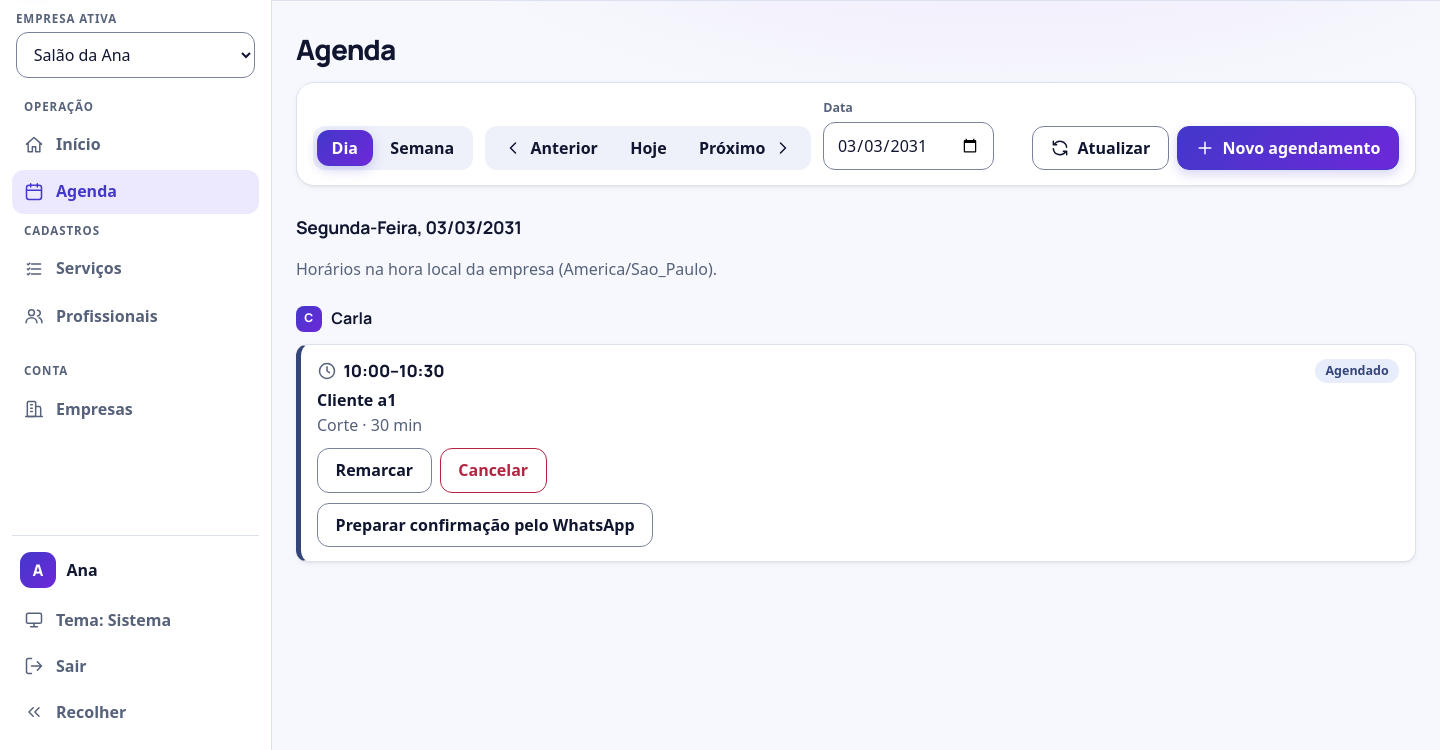
Scenario: WhatsApp na agenda real › prepara uma única ação por cartão na visão Dia, com a empresa ativa
This screenshot has width=1440, height=750.
Click the button "Preparar confirmação pelo WhatsApp". click: (485, 525)
box: [317, 503, 653, 547]
(page scrolled)
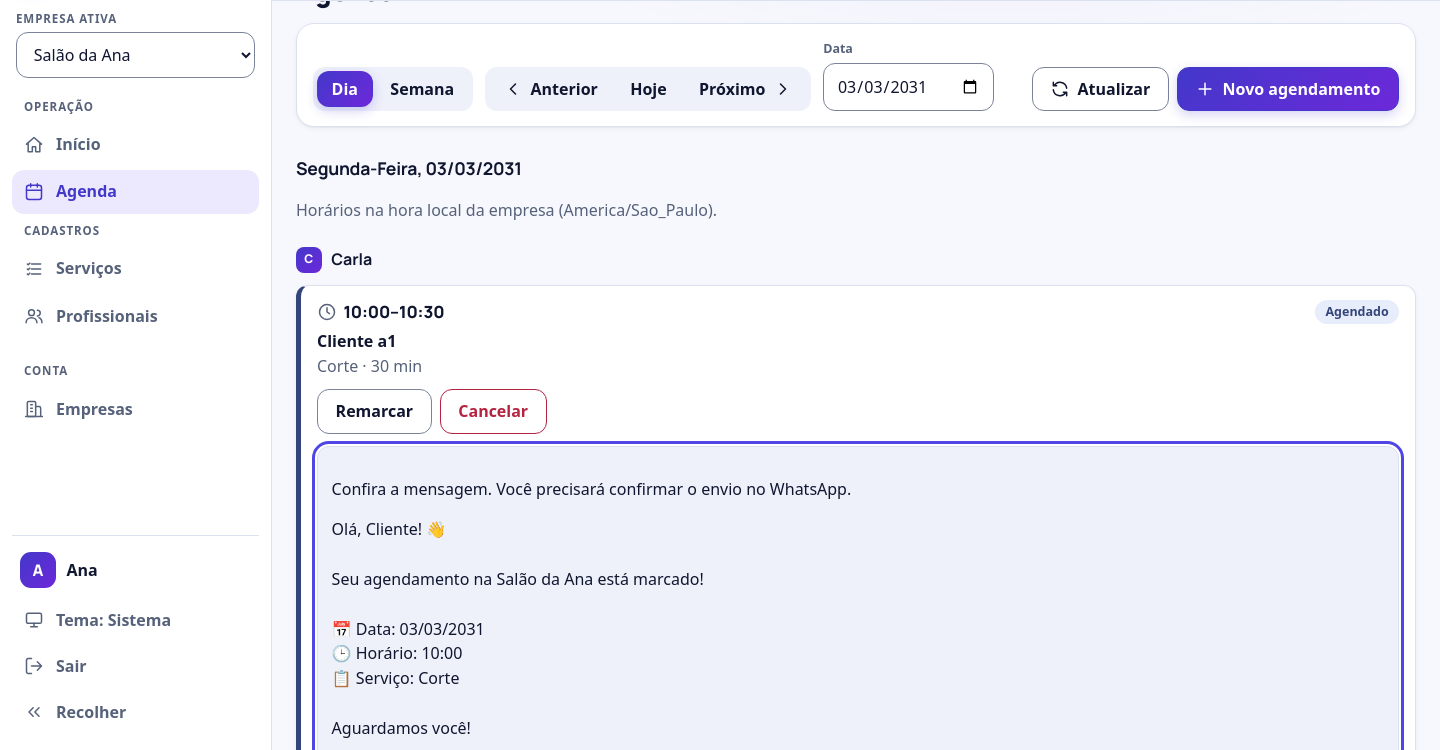
Click the button "Atualizar". click: (1100, 89)
box: [1032, 67, 1169, 112]
(page scrolled)
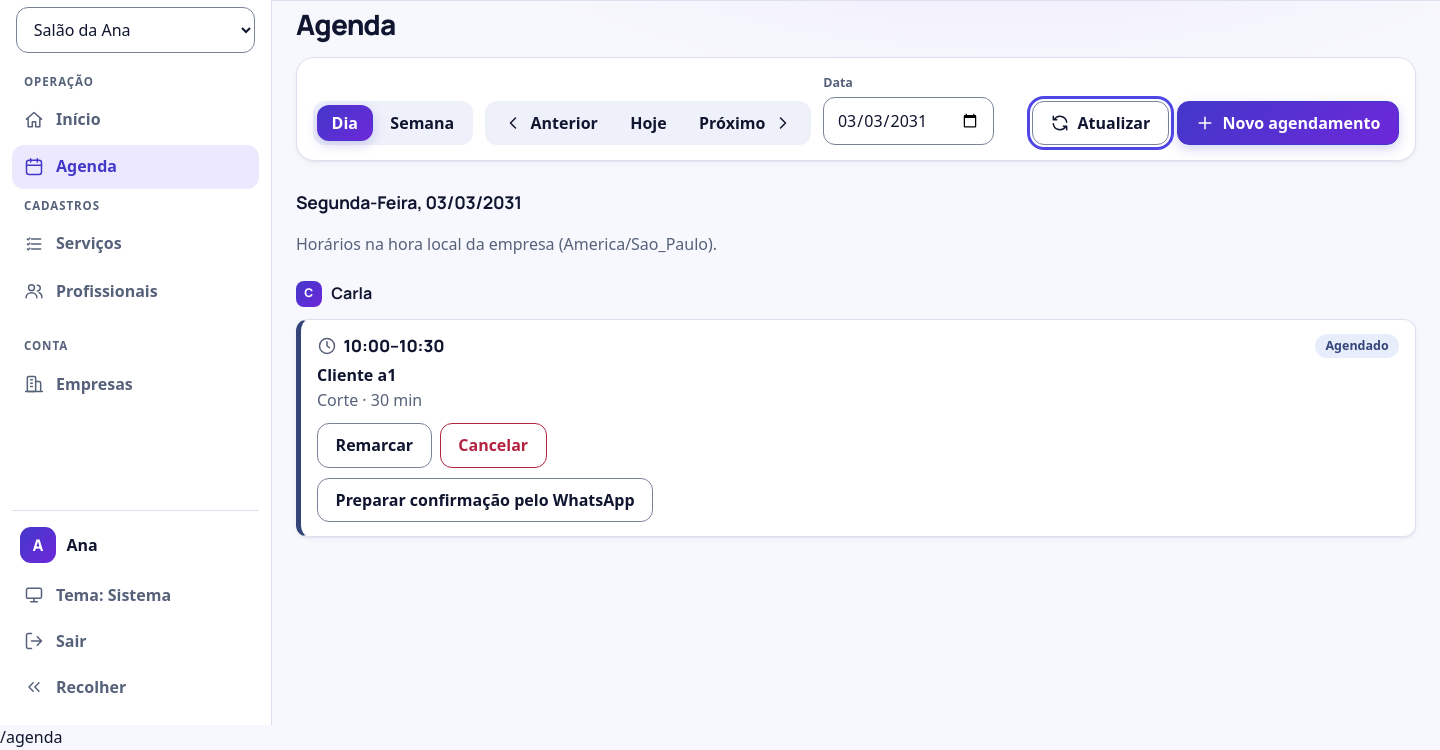
Expected: the text "Olá, Cliente!" is gone
